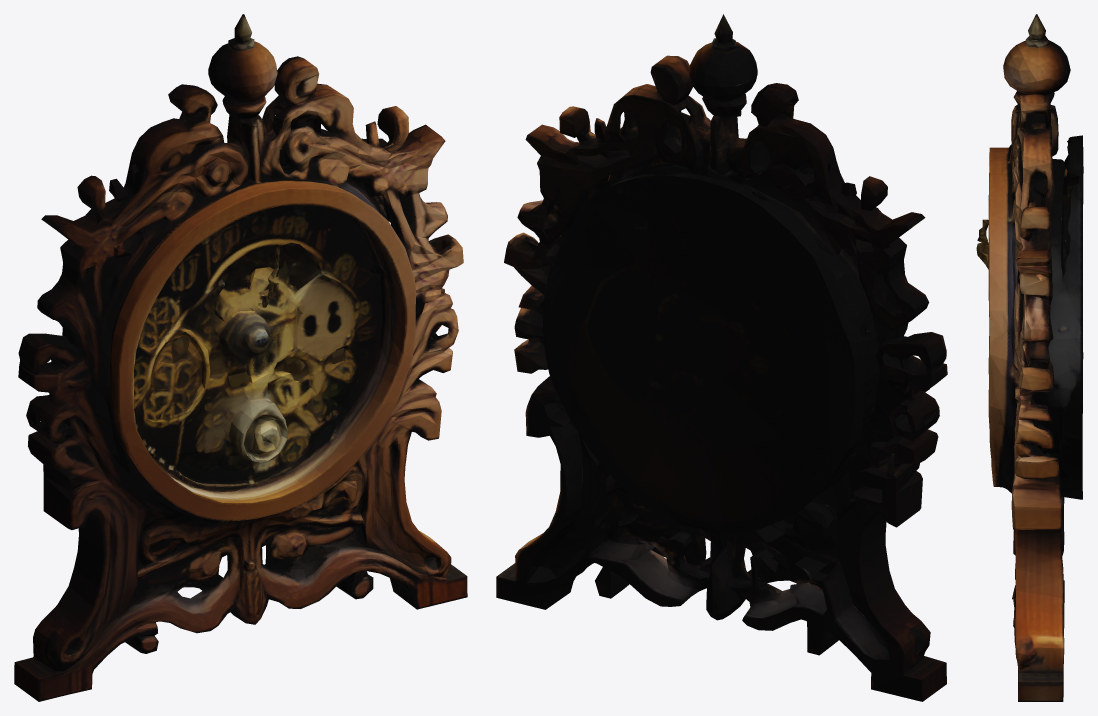
The model's file is wooden-ornamental-clockwork-rustic.jpeg.glb.
The picture shows the model from 3 angles, left to right: view 1: azimuth 30°, elevation 25°; view 2: azimuth 150°, elevation 25°; view 3: azimuth 270°, elevation 25°; orthographic projection. The views are drawn at different scales.
Visible parts, largest first — view 1: world; view 2: world; view 3: world.
Part boxes in pixels (box(x1,y1,x2,y2)): world: box(14, 14, 467, 701); world: box(496, 14, 947, 701); world: box(976, 14, 1083, 701).
Size of the model in its own units: 0.7197 by 1 by 0.1648.
Materials: 1 (1 with a texture image).
